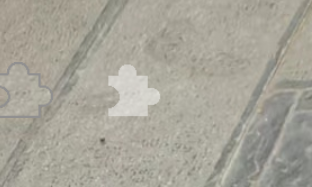target: (108, 62, 164, 118)
